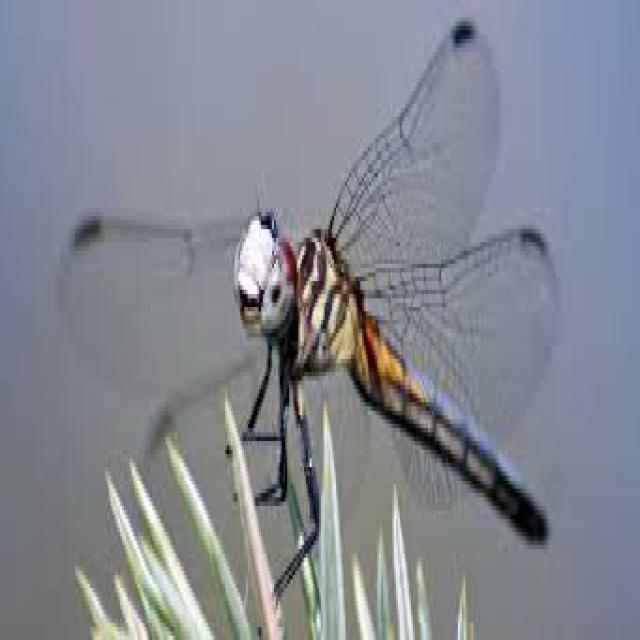dragonfly: (58, 22, 557, 588)
